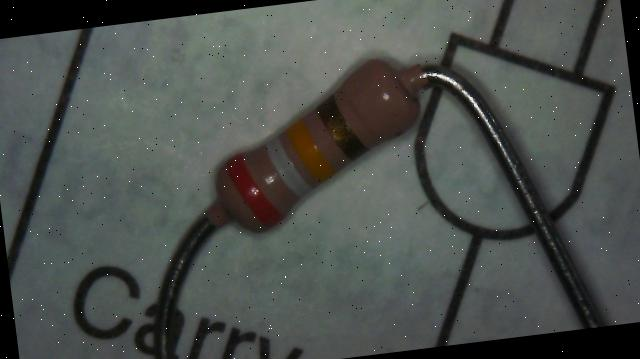gold: (314, 92, 366, 163)
orange: (225, 149, 283, 230)
resistor: (188, 43, 438, 256)
white: (266, 133, 314, 201)
yellow: (284, 114, 336, 184)
